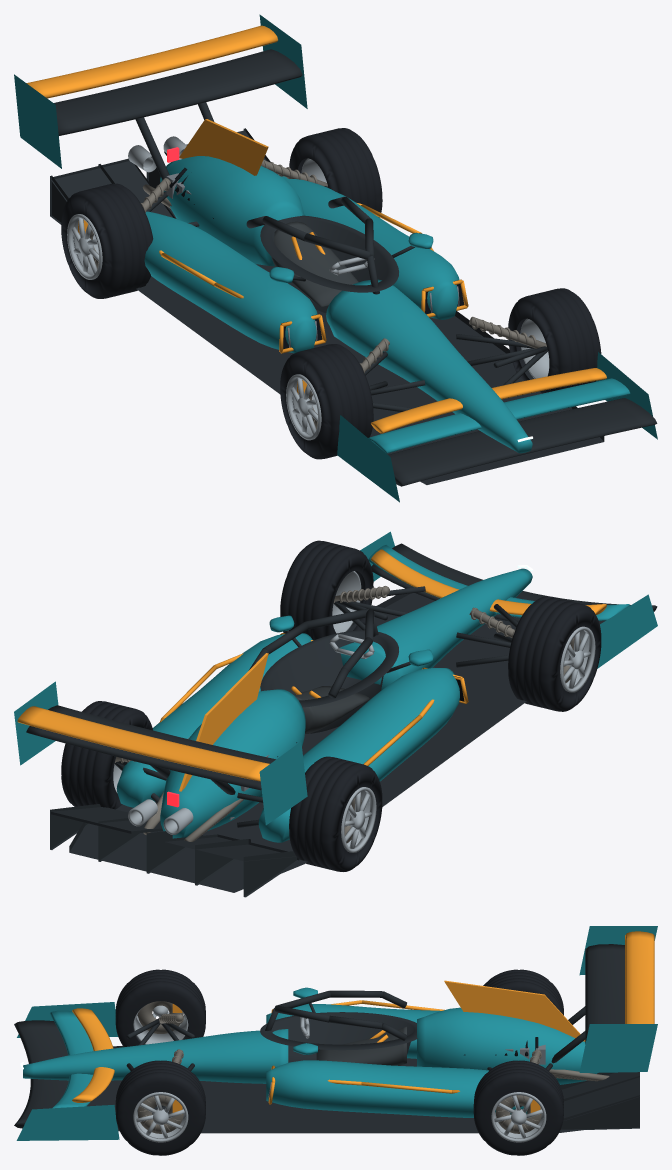
File: concept-kestrel.glb
3 renders of one model, top to bottom at view 1: azimuth 30°, elevation 25°; view 2: azimuth 150°, elevation 25°; view 3: azimuth 270°, elevation 25°, orthographic. The views are drawn at different scales.
Visible parts, largest first — view 1: NoseHood_Tapered_Spear, SidePanel_Sculpted_Pod_L, Undertray_Venturi_Floor, EngineCover_Sculpted_Spine, RearWing_Mainplane, FrontWing_Mainplane, Tire_RearL, Tire_FrontL, SidePanel_Sculpted_Pod_R, Tire_FrontR, RearWing_DRS_Flap, Tire_RearR (+18 smaller); view 2: Undertray_Venturi_Floor, SidePanel_Sculpted_Pod_L, RearDiffuser_Channel_Strakes, EngineCover_Sculpted_Spine, NoseHood_Tapered_Spear, Tire_FrontL, Tire_RearL, Tire_FrontR, Cockpit_Hollow_Monocoque, RearWing_DRS_Flap, SidePanel_Sculpted_Pod_R, Tire_RearR (+18 smaller); view 3: SidePanel_Sculpted_Pod_R, Undertray_Venturi_Floor, NoseHood_Tapered_Spear, EngineCover_Sculpted_Spine, Tire_FrontR, Tire_RearR, RearWing_Endplates, FrontBumper_Wing_Endplates, RearDiffuser_Channel_Strakes, Cockpit_Hollow_Monocoque, Tire_FrontL, EngineCover_Shark_Fin (+21 smaller).
Boxes of the visible parts, x1,y1,x2,y2 form: NoseHood_Tapered_Spear: (326,279,532,453); SidePanel_Sculpted_Pod_L: (144,211,317,353); Undertray_Venturi_Floor: (136,211,604,484); EngineCover_Sculpted_Spine: (160,156,304,266); RearWing_Mainplane: (54,49,302,135); FrontWing_Mainplane: (388,398,657,486); Tire_RearL: (61,183,153,298); Tire_FrontL: (280,344,373,459); SidePanel_Sculpted_Pod_R: (277,174,459,319); Tire_FrontR: (508,288,601,393); RearWing_DRS_Flap: (26,25,277,98); Tire_RearR: (289,128,382,217); Undertray_Venturi_Floor: (69,593,526,892); SidePanel_Sculpted_Pod_L: (258,668,459,842); RearDiffuser_Channel_Strakes: (50,804,299,897); EngineCover_Sculpted_Spine: (160,689,305,838); NoseHood_Tapered_Spear: (340,568,532,689); Tire_FrontL: (508,596,601,711); Tire_RearL: (289,756,382,871); Tire_FrontR: (280,540,373,640); Cockpit_Hollow_Monocoque: (260,630,398,733); RearWing_DRS_Flap: (17,706,269,781); SidePanel_Sculpted_Pod_R: (116,633,312,807); Tire_RearR: (61,701,152,809); SidePanel_Sculpted_Pod_R: (266,1060,527,1117); Undertray_Venturi_Floor: (87,1046,583,1133); NoseHood_Tapered_Spear: (23,1029,288,1083); EngineCover_Sculpted_Spine: (417,1007,597,1084); Tire_FrontR: (115,1060,205,1155); Tire_RearR: (473,1060,563,1155); RearWing_Endplates: (579,926,657,1072); FrontBumper_Wing_Endplates: (16,1002,119,1140); RearDiffuser_Channel_Strakes: (560,1072,639,1130); Cockpit_Hollow_Monocoque: (260,1012,417,1062); Tire_FrontL: (115,969,205,1046); EngineCover_Shark_Fin: (444,980,585,1041).
Bounding box in the file's own units: 2.03 × 1.1 × 5.
